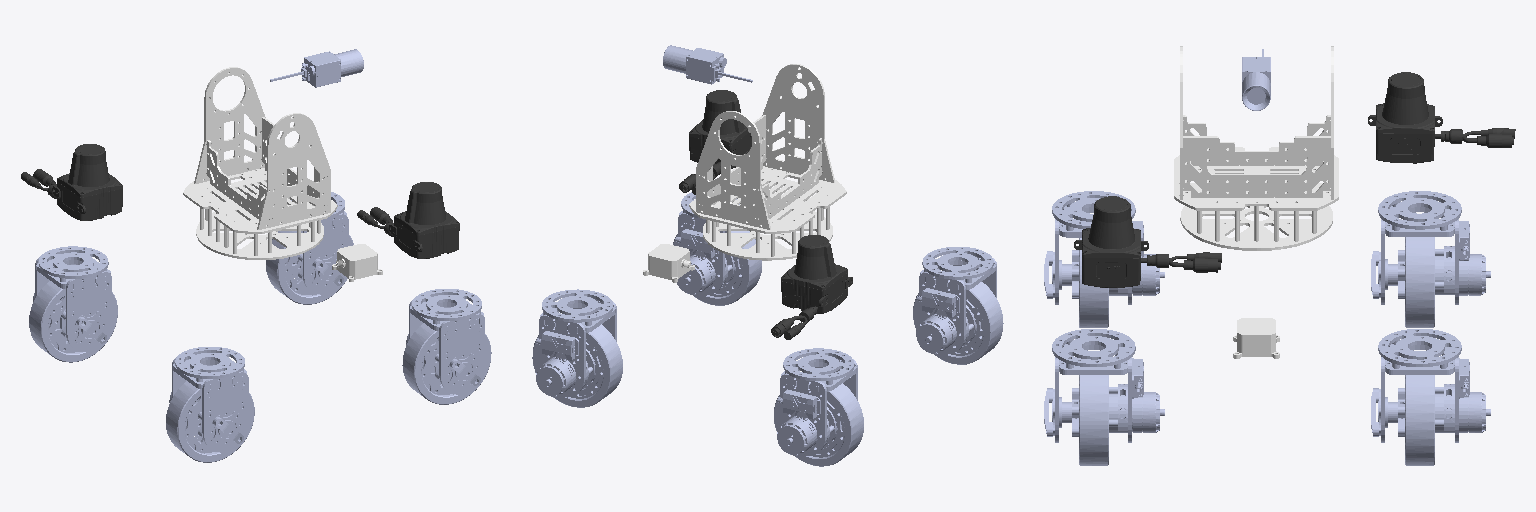
The robot description file, URDF, robot "4ws_auto_infantry":
<?xml version="1.0" encoding="utf-8"?>
<!-- This URDF was automatically created by SolidWorks to URDF Exporter! Originally created by [author] ([email redacted]) 
     Commit Version: 1.6.0-1-g15f4949  Build Version: 1.6.7594.29634
     For more information, please see http://wiki.ros.org/sw_urdf_exporter -->
<robot
  name="4ws_auto_infantry">
  <link
    name="base_link">
    <inertial>
      <origin
        xyz="-0.0153424786189024 -0.000971517176663675 0.0426010747913751"
        rpy="0 0 0" />
      <mass
        value="4.22694944659058" />
      <inertia
        ixx="0.00592574713878002"
        ixy="-6.04761148016892E-07"
        ixz="3.19931122890849E-06"
        iyy="0.00556528018404505"
        iyz="5.11170604999262E-06"
        izz="0.00777661011235666" />
    </inertial>
    <visual>
      <origin
        xyz="0 0 0"
        rpy="0 0 0" />
      <geometry>
        <mesh
          filename="package://4ws_auto_infantry/meshes/base_link.STL" />
      </geometry>
      <material
        name="">
        <color
          rgba="0.792156862745098 0.819607843137255 0.933333333333333 1" />
      </material>
    </visual>
    <collision>
      <origin
        xyz="0 0 0"
        rpy="0 0 0" />
      <geometry>
        <mesh
          filename="package://4ws_auto_infantry/meshes/base_link.STL" />
      </geometry>
    </collision>
  </link>
  <link
    name="fr_steering_link">
    <inertial>
      <origin
        xyz="-8.16524998191182E-05 0.0114879374465855 -0.0535777256855584"
        rpy="0 0 0" />
      <mass
        value="0.233948109921657" />
      <inertia
        ixx="7.48170891927309E-05"
        ixy="7.79475161983056E-08"
        ixz="-2.17674263673885E-07"
        iyy="0.000106662535876269"
        iyz="-5.78832135652101E-08"
        izz="8.18863215714512E-05" />
    </inertial>
    <visual>
      <origin
        xyz="0 0 0"
        rpy="0 0 0" />
      <geometry>
        <mesh
          filename="package://4ws_auto_infantry/meshes/fr_steering_link.STL" />
      </geometry>
      <material
        name="">
        <color
          rgba="0.792156862745098 0.819607843137255 0.933333333333333 1" />
      </material>
    </visual>
    <collision>
      <origin
        xyz="0 0 0"
        rpy="0 0 0" />
      <geometry>
        <mesh
          filename="package://4ws_auto_infantry/meshes/fr_steering_link.STL" />
      </geometry>
    </collision>
  </link>
  <joint
    name="fr_steering_joint"
    type="continuous">
    <origin
      xyz="0.160387678312939 -0.165 0.015664832686077"
      rpy="0 0 0" />
    <parent
      link="base_link" />
    <child
      link="fr_steering_link" />
    <axis
      xyz="0 0 -1" />
  </joint>
  <link
    name="fr_wheel_link">
    <inertial>
      <origin
        xyz="5.82867087928207E-16 0.011380912005585 3.33066907387547E-16"
        rpy="0 0 0" />
      <mass
        value="0.152262957020512" />
      <inertia
        ixx="0.000161899986057917"
        ixy="-4.70045889009574E-19"
        ixz="-1.20026720731511E-07"
        iyy="0.000308108500845025"
        iyz="7.35542109619805E-19"
        izz="0.000162472065076815" />
    </inertial>
    <visual>
      <origin
        xyz="0 0 0"
        rpy="0 0 0" />
      <geometry>
        <mesh
          filename="package://4ws_auto_infantry/meshes/fr_wheel_link.STL" />
      </geometry>
      <material
        name="">
        <color
          rgba="0.792156862745098 0.819607843137255 0.933333333333333 1" />
      </material>
    </visual>
    <collision>
      <origin
        xyz="0 0 0"
        rpy="0 0 0" />
      <geometry>
        <mesh
          filename="package://4ws_auto_infantry/meshes/fr_wheel_link.STL" />
      </geometry>
    </collision>
  </link>
  <joint
    name="fr_wheel_joint"
    type="continuous">
    <origin
      xyz="-5.00000000002165E-05 -0.0119999999999999 -0.07"
      rpy="0 0 0" />
    <parent
      link="fr_steering_link" />
    <child
      link="fr_wheel_link" />
    <axis
      xyz="0 1 0" />
  </joint>
  <link
    name="fl_steering_link">
    <inertial>
      <origin
        xyz="-8.16524991866796E-05 0.011487937432077 -0.0535777256826572"
        rpy="0 0 0" />
      <mass
        value="0.233948109854195" />
      <inertia
        ixx="7.48170891762637E-05"
        ixy="7.79475140131296E-08"
        ixz="-2.17674267008069E-07"
        iyy="0.000106662535864513"
        iyz="-5.78832080302591E-08"
        izz="8.18863215576112E-05" />
    </inertial>
    <visual>
      <origin
        xyz="0 0 0"
        rpy="0 0 0" />
      <geometry>
        <mesh
          filename="package://4ws_auto_infantry/meshes/fl_steering_link.STL" />
      </geometry>
      <material
        name="">
        <color
          rgba="0.792156862745098 0.819607843137255 0.933333333333333 1" />
      </material>
    </visual>
    <collision>
      <origin
        xyz="0 0 0"
        rpy="0 0 0" />
      <geometry>
        <mesh
          filename="package://4ws_auto_infantry/meshes/fl_steering_link.STL" />
      </geometry>
    </collision>
  </link>
  <joint
    name="fl_steering_joint"
    type="continuous">
    <origin
      xyz="0.160387678312938 0.165000000000001 0.0156648397333951"
      rpy="0 0 0" />
    <parent
      link="base_link" />
    <child
      link="fl_steering_link" />
    <axis
      xyz="0 0 -1" />
  </joint>
  <link
    name="fl_wheel_link">
    <inertial>
      <origin
        xyz="8.32667268468867E-17 0.0113809120055849 -6.66133814775094E-16"
        rpy="0 0 0" />
      <mass
        value="0.152262957020512" />
      <inertia
        ixx="0.00016249459058406"
        ixy="-2.53064094491269E-19"
        ixz="3.18220855376168E-08"
        iyy="0.000308108500845026"
        iyz="7.0728165439244E-19"
        izz="0.000161877460550672" />
    </inertial>
    <visual>
      <origin
        xyz="0 0 0"
        rpy="0 0 0" />
      <geometry>
        <mesh
          filename="package://4ws_auto_infantry/meshes/fl_wheel_link.STL" />
      </geometry>
      <material
        name="">
        <color
          rgba="0.792156862745098 0.819607843137255 0.933333333333333 1" />
      </material>
    </visual>
    <collision>
      <origin
        xyz="0 0 0"
        rpy="0 0 0" />
      <geometry>
        <mesh
          filename="package://4ws_auto_infantry/meshes/fl_wheel_link.STL" />
      </geometry>
    </collision>
  </link>
  <joint
    name="fl_wheel_joint"
    type="continuous">
    <origin
      xyz="-4.99999999996614E-05 -0.0119999999999999 -0.0699999999999988"
      rpy="0 0 0" />
    <parent
      link="fl_steering_link" />
    <child
      link="fl_wheel_link" />
    <axis
      xyz="0 1 0" />
  </joint>
  <link
    name="bl_steering_link">
    <inertial>
      <origin
        xyz="-8.16524987842515E-05 0.0114879374365965 -0.0535777256831927"
        rpy="0 0 0" />
      <mass
        value="0.233948109874449" />
      <inertia
        ixx="7.48170891818403E-05"
        ixy="7.7947513379771E-08"
        ixz="-2.17674266878774E-07"
        iyy="0.000106662535868677"
        iyz="-5.78832110503779E-08"
        izz="8.18863215620746E-05" />
    </inertial>
    <visual>
      <origin
        xyz="0 0 0"
        rpy="0 0 0" />
      <geometry>
        <mesh
          filename="package://4ws_auto_infantry/meshes/bl_steering_link.STL" />
      </geometry>
      <material
        name="">
        <color
          rgba="0.792156862745098 0.819607843137255 0.933333333333333 1" />
      </material>
    </visual>
    <collision>
      <origin
        xyz="0 0 0"
        rpy="0 0 0" />
      <geometry>
        <mesh
          filename="package://4ws_auto_infantry/meshes/bl_steering_link.STL" />
      </geometry>
    </collision>
  </link>
  <joint
    name="bl_steering_joint"
    type="continuous">
    <origin
      xyz="-0.169612321687062 0.164999999999999 0.0156648361657047"
      rpy="0 0 0" />
    <parent
      link="base_link" />
    <child
      link="bl_steering_link" />
    <axis
      xyz="0 0 -1" />
  </joint>
  <link
    name="bl_wheel_link">
    <inertial>
      <origin
        xyz="2.77555756156289E-16 0.011380912005585 6.10622663543836E-16"
        rpy="0 0 0" />
      <mass
        value="0.152262957020512" />
      <inertia
        ixx="0.000162339119130636"
        ixy="-5.83271855638504E-19"
        ixz="-2.69791355571105E-07"
        iyy="0.000308108500845026"
        iyz="6.61486285374226E-19"
        izz="0.000162032932004097" />
    </inertial>
    <visual>
      <origin
        xyz="0 0 0"
        rpy="0 0 0" />
      <geometry>
        <mesh
          filename="package://4ws_auto_infantry/meshes/bl_wheel_link.STL" />
      </geometry>
      <material
        name="">
        <color
          rgba="0.792156862745098 0.819607843137255 0.933333333333333 1" />
      </material>
    </visual>
    <collision>
      <origin
        xyz="0 0 0"
        rpy="0 0 0" />
      <geometry>
        <mesh
          filename="package://4ws_auto_infantry/meshes/bl_wheel_link.STL" />
      </geometry>
    </collision>
  </link>
  <joint
    name="bl_wheel_joint"
    type="continuous">
    <origin
      xyz="-4.9999999999828E-05 -0.0119999999999999 -0.0700000000000005"
      rpy="0 0 0" />
    <parent
      link="bl_steering_link" />
    <child
      link="bl_wheel_link" />
    <axis
      xyz="0 1 0" />
  </joint>
  <link
    name="br_steering_link">
    <inertial>
      <origin
        xyz="-8.16524988057898E-05 0.0114879374333171 -0.0535777256832153"
        rpy="0 0 0" />
      <mass
        value="0.233948109858844" />
      <inertia
        ixx="7.48170891767385E-05"
        ixy="7.7947513452403E-08"
        ixz="-2.17674267182683E-07"
        iyy="0.000106662535865159"
        iyz="-5.78832079378798E-08"
        izz="8.18863215601841E-05" />
    </inertial>
    <visual>
      <origin
        xyz="0 0 0"
        rpy="0 0 0" />
      <geometry>
        <mesh
          filename="package://4ws_auto_infantry/meshes/br_steering_link.STL" />
      </geometry>
      <material
        name="">
        <color
          rgba="0.792156862745098 0.819607843137255 0.933333333333333 1" />
      </material>
    </visual>
    <collision>
      <origin
        xyz="0 0 0"
        rpy="0 0 0" />
      <geometry>
        <mesh
          filename="package://4ws_auto_infantry/meshes/br_steering_link.STL" />
      </geometry>
    </collision>
  </link>
  <joint
    name="br_steering_joint"
    type="continuous">
    <origin
      xyz="-0.169612321687061 -0.165000000000001 0.0154600000000106"
      rpy="0 0 0" />
    <parent
      link="base_link" />
    <child
      link="br_steering_link" />
    <axis
      xyz="0 0 -1" />
  </joint>
  <link
    name="br_wheel_link">
    <inertial>
      <origin
        xyz="6.38378239159465E-16 0.011380912005585 -2.77555756156289E-16"
        rpy="0 0 0" />
      <mass
        value="0.152262957020512" />
      <inertia
        ixx="0.000162016542300868"
        ixy="-3.60390069951356E-19"
        ixz="2.59808462203538E-07"
        iyy="0.000308108500845026"
        iyz="8.24222567278785E-19"
        izz="0.000162355508833864" />
    </inertial>
    <visual>
      <origin
        xyz="0 0 0"
        rpy="0 0 0" />
      <geometry>
        <mesh
          filename="package://4ws_auto_infantry/meshes/br_wheel_link.STL" />
      </geometry>
      <material
        name="">
        <color
          rgba="0.792156862745098 0.819607843137255 0.933333333333333 1" />
      </material>
    </visual>
    <collision>
      <origin
        xyz="0 0 0"
        rpy="0 0 0" />
      <geometry>
        <mesh
          filename="package://4ws_auto_infantry/meshes/br_wheel_link.STL" />
      </geometry>
    </collision>
  </link>
  <joint
    name="br_wheel_joint"
    type="continuous">
    <origin
      xyz="-5.00000000003831E-05 -0.012 -0.0699999999999993"
      rpy="0 0 0" />
    <parent
      link="br_steering_link" />
    <child
      link="br_wheel_link" />
    <axis
      xyz="0 1 0" />
  </joint>
  <link
    name="yaw_link">
    <inertial>
      <origin
        xyz="0.0033026586971186 -0.00141433442026462 0.0492017467960623"
        rpy="0 0 0" />
      <mass
        value="0.200860330559733" />
      <inertia
        ixx="0.000989192198602812"
        ixy="-1.3529226863658E-06"
        ixz="-2.85373821110227E-05"
        iyy="0.000659302734650477"
        iyz="2.94840176363339E-05"
        izz="0.000888939800483085" />
    </inertial>
    <visual>
      <origin
        xyz="0 0 0"
        rpy="0 0 0" />
      <geometry>
        <mesh
          filename="package://4ws_auto_infantry/meshes/yaw_link.STL" />
      </geometry>
      <material
        name="">
        <color
          rgba="1 1 1 1" />
      </material>
    </visual>
    <collision>
      <origin
        xyz="0 0 0"
        rpy="0 0 0" />
      <geometry>
        <mesh
          filename="package://4ws_auto_infantry/meshes/yaw_link.STL" />
      </geometry>
    </collision>
  </link>
  <joint
    name="yaw_joint"
    type="continuous">
    <origin
      xyz="-0.00461231611052366 0 0.08799999999999"
      rpy="0 0 0" />
    <parent
      link="base_link" />
    <child
      link="yaw_link" />
    <axis
      xyz="0 0 -1" />
  </joint>
  <link
    name="pitch_link">
    <inertial>
      <origin
        xyz="0.0218295214644216 -0.00572718193836697 0.0223154294531415"
        rpy="0 0 0" />
      <mass
        value="1.36996603358887" />
      <inertia
        ixx="0.000869741345762696"
        ixy="1.93480998509698E-06"
        ixz="1.49079616459806E-05"
        iyy="0.00321720011981406"
        iyz="-1.2188670424588E-06"
        izz="0.0036436239270771" />
    </inertial>
    <visual>
      <origin
        xyz="0 0 0"
        rpy="0 0 0" />
      <geometry>
        <mesh
          filename="package://4ws_auto_infantry/meshes/pitch_link.STL" />
      </geometry>
      <material
        name="">
        <color
          rgba="1 1 1 1" />
      </material>
    </visual>
    <collision>
      <origin
        xyz="0 0 0"
        rpy="0 0 0" />
      <geometry>
        <mesh
          filename="package://4ws_auto_infantry/meshes/pitch_link.STL" />
      </geometry>
    </collision>
  </link>
  <joint
    name="pitch_joint"
    type="continuous">
    <origin
      xyz="0 0 0.152999458706042"
      rpy="0 0 0" />
    <parent
      link="yaw_link" />
    <child
      link="pitch_link" />
    <axis
      xyz="0 -1 0" />
  </joint>
  <link
    name="cam_link">
    <inertial>
      <origin
        xyz="-0.0333625192776818 7.78704694743004E-05 1.8912045142816E-05"
        rpy="0 0 0" />
      <mass
        value="0.135798863176648" />
      <inertia
        ixx="1.71413025492174E-05"
        ixy="4.60151773237999E-07"
        ixz="4.95362807343211E-08"
        iyy="5.9443792104674E-05"
        iyz="8.80056228730057E-08"
        izz="5.95685810229894E-05" />
    </inertial>
    <visual>
      <origin
        xyz="0 0 0"
        rpy="0 0 0" />
      <geometry>
        <mesh
          filename="package://4ws_auto_infantry/meshes/cam_link.STL" />
      </geometry>
      <material
        name="">
        <color
          rgba="0.792156862745098 0.819607843137255 0.933333333333333 1" />
      </material>
    </visual>
    <collision>
      <origin
        xyz="0 0 0"
        rpy="0 0 0" />
      <geometry>
        <mesh
          filename="package://4ws_auto_infantry/meshes/cam_link.STL" />
      </geometry>
    </collision>
  </link>
  <joint
    name="cam_joint"
    type="fixed">
    <origin
      xyz="0.13112 -0.00050216534503969 0.0420000000000005"
      rpy="0 0 0" />
    <parent
      link="pitch_link" />
    <child
      link="cam_link" />
    <axis
      xyz="0 0 0" />
  </joint>
  <link
    name="lidar_1_link">
    <inertial>
      <origin
        xyz="0.00800003791293047 0.0139524588145136 -0.056592110155703"
        rpy="0 0 0" />
      <mass
        value="0.0554197871614723" />
      <inertia
        ixx="2.42532146536024E-05"
        ixy="-4.08523458007044E-07"
        ixz="5.99955362116005E-08"
        iyy="2.44427501355239E-05"
        iyz="9.89324286287192E-09"
        izz="3.51059136781273E-05" />
    </inertial>
    <visual>
      <origin
        xyz="0 0 0"
        rpy="0 0 0" />
      <geometry>
        <mesh
          filename="package://4ws_auto_infantry/meshes/lidar_1_link.STL" />
      </geometry>
      <material
        name="">
        <color
          rgba="0.294117647058824 0.294117647058824 0.294117647058824 1" />
      </material>
    </visual>
    <collision>
      <origin
        xyz="0 0 0"
        rpy="0 0 0" />
      <geometry>
        <mesh
          filename="package://4ws_auto_infantry/meshes/lidar_1_link.STL" />
      </geometry>
    </collision>
  </link>
  <joint
    name="lidar_1_joint"
    type="fixed">
    <origin
      xyz="0.143385236440617 -0.14607365029173 0.170364832686067"
      rpy="0 0 0" />
    <parent
      link="base_link" />
    <child
      link="lidar_1_link" />
    <axis
      xyz="0 0 0" />
  </joint>
  <link
    name="lidar_2_link">
    <inertial>
      <origin
        xyz="-0.00799578661074335 -0.0139548956508409 -0.0565921103741513"
        rpy="0 0 0" />
      <mass
        value="0.0554197869273259" />
      <inertia
        ixx="2.42534635190261E-05"
        ixy="-4.08581151251797E-07"
        ixz="-5.9992463019726E-08"
        iyy="2.44425010541392E-05"
        iyz="-9.91155171917584E-09"
        izz="3.51059136436725E-05" />
    </inertial>
    <visual>
      <origin
        xyz="0 0 0"
        rpy="0 0 0" />
      <geometry>
        <mesh
          filename="package://4ws_auto_infantry/meshes/lidar_2_link.STL" />
      </geometry>
      <material
        name="">
        <color
          rgba="0.294117647058824 0.294117647058824 0.294117647058824 1" />
      </material>
    </visual>
    <collision>
      <origin
        xyz="0 0 0"
        rpy="0 0 0" />
      <geometry>
        <mesh
          filename="package://4ws_auto_infantry/meshes/lidar_2_link.STL" />
      </geometry>
    </collision>
  </link>
  <joint
    name="lidar_2_joint"
    type="prismatic">
    <origin
      xyz="-0.154275039887516 0.151073668429019 0.170364832686068"
      rpy="0 0 0" />
    <parent
      link="base_link" />
    <child
      link="lidar_2_link" />
    <axis
      xyz="0.707214493379366 -0.706999052583642 0" />
    <limit
      lower="0"
      upper="0"
      effort="0"
      velocity="0" />
  </joint>
  <link
    name="imu_link">
    <inertial>
      <origin
        xyz="-0.000490931902507874 8.33499974040031E-08 -0.0128774712286312"
        rpy="0 0 0" />
      <mass
        value="0.0152032914019641" />
      <inertia
        ixx="3.58585897336552E-06"
        ixy="1.07037003961398E-13"
        ixz="-1.60040769048652E-09"
        iyy="3.45316263291563E-06"
        iyz="5.26240295635906E-13"
        izz="5.64618660363721E-06" />
    </inertial>
    <visual>
      <origin
        xyz="0 0 0"
        rpy="0 0 0" />
      <geometry>
        <mesh
          filename="package://4ws_auto_infantry/meshes/imu_link.STL" />
      </geometry>
      <material
        name="">
        <color
          rgba="1 1 1 1" />
      </material>
    </visual>
    <collision>
      <origin
        xyz="0 0 0"
        rpy="0 0 0" />
      <geometry>
        <mesh
          filename="package://4ws_auto_infantry/meshes/imu_link.STL" />
      </geometry>
    </collision>
  </link>
  <joint
    name="imu_joint"
    type="fixed">
    <origin
      xyz="0.130808431401769 -0.000220675328304477 0.0279999999999999"
      rpy="0 0 0" />
    <parent
      link="base_link" />
    <child
      link="imu_link" />
    <axis
      xyz="0 0 0" />
  </joint>
</robot>

--- Facts derived from the render (not from the file) ---
The picture shows the robot from 3 angles, left to right: view 1: azimuth 30°, elevation 25°; view 2: azimuth 150°, elevation 25°; view 3: azimuth 270°, elevation 25°; orthographic projection.
Robot: 4ws_auto_infantry — 15 links, 14 joints (10 continuous, 1 prismatic, 3 fixed); root link base_link; default pose: every joint at zero.
Links seen in each view (by area): view 1: yaw_link, br_steering_link, bl_steering_link, fr_steering_link, lidar_2_link, lidar_1_link, fl_steering_link, fr_wheel_link, bl_wheel_link, br_wheel_link, cam_link, fl_wheel_link (+1 smaller); view 2: yaw_link, bl_steering_link, fl_steering_link, br_steering_link, lidar_2_link, fr_steering_link, lidar_1_link, fl_wheel_link, bl_wheel_link, br_wheel_link, cam_link, fr_wheel_link (+1 smaller); view 3: yaw_link, fr_steering_link, bl_steering_link, fl_steering_link, lidar_1_link, lidar_2_link, br_steering_link, fr_wheel_link, fl_wheel_link, bl_wheel_link, imu_link, cam_link (+1 smaller).
Link boxes in pixels (x1,y1,x2,y2): yaw_link: [183, 67, 337, 259]; br_steering_link: [169, 347, 248, 452]; bl_steering_link: [33, 246, 111, 351]; fr_steering_link: [406, 289, 484, 394]; lidar_2_link: [21, 144, 122, 220]; lidar_1_link: [357, 182, 459, 258]; fl_steering_link: [272, 192, 348, 294]; fr_wheel_link: [402, 323, 491, 404]; bl_wheel_link: [29, 281, 117, 362]; br_wheel_link: [166, 381, 254, 462]; cam_link: [270, 49, 363, 87]; fl_wheel_link: [266, 231, 353, 304]; yaw_link: [689, 64, 846, 260]; bl_steering_link: [777, 348, 857, 455]; fl_steering_link: [536, 289, 616, 397]; br_steering_link: [916, 247, 996, 354]; lidar_2_link: [771, 235, 852, 339]; fr_steering_link: [675, 192, 755, 295]; lidar_1_link: [679, 90, 751, 194]; fl_wheel_link: [532, 324, 622, 407]; bl_wheel_link: [774, 383, 863, 466]; br_wheel_link: [913, 282, 1003, 364]; cam_link: [663, 45, 752, 84]; fr_wheel_link: [673, 231, 761, 305]; yaw_link: [1174, 46, 1338, 250]; fr_steering_link: [1044, 329, 1164, 442]; bl_steering_link: [1371, 191, 1490, 304]; fl_steering_link: [1371, 329, 1490, 442]; lidar_1_link: [1074, 196, 1221, 287]; lidar_2_link: [1368, 72, 1515, 163]; br_steering_link: [1044, 191, 1164, 304]; fr_wheel_link: [1079, 375, 1108, 465]; fl_wheel_link: [1405, 375, 1434, 465]; bl_wheel_link: [1405, 237, 1434, 327]; imu_link: [1233, 318, 1279, 358]; cam_link: [1242, 49, 1270, 110].
Bounding box of the posed robot: 0.438 × 0.4767 × 0.406 m (x, y, z).
Meshes: 15 distinct files referenced, 13 mesh visuals loaded (13 binary STL); not drawn: 2 (reference not matched to a file when rendering).